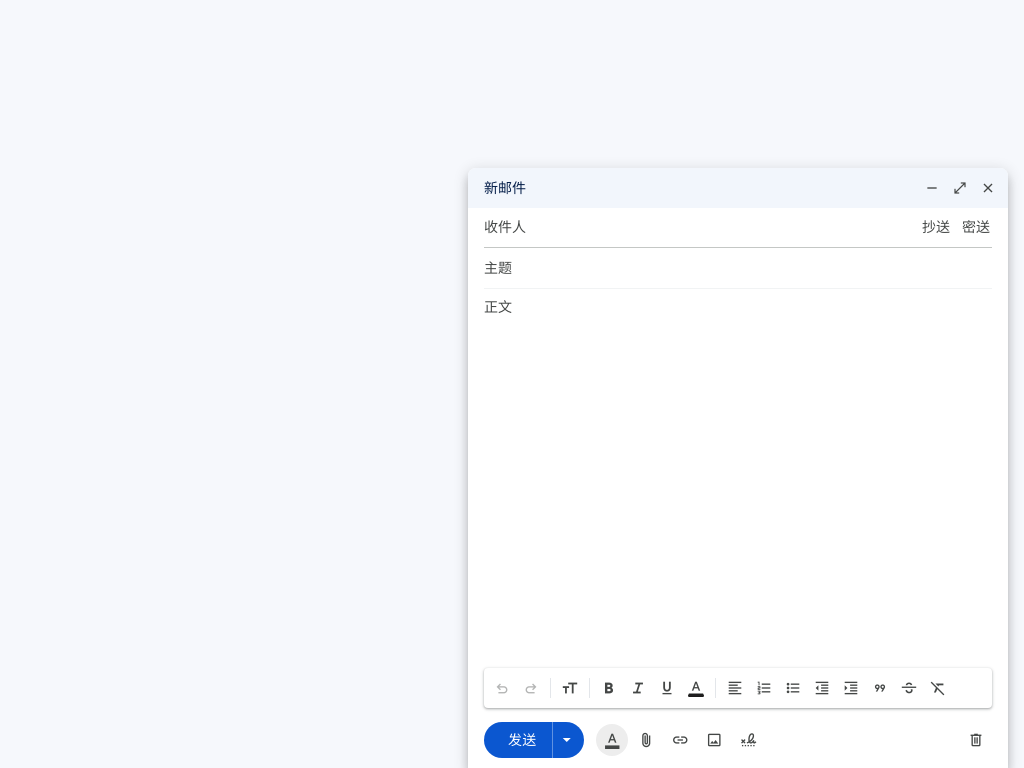
ComposeWindow — drafts › shows the conflict dialog on 409 and overwrites with force
In the field labelled "主题": x=738, y=268 [484,248,992,288], type "a"
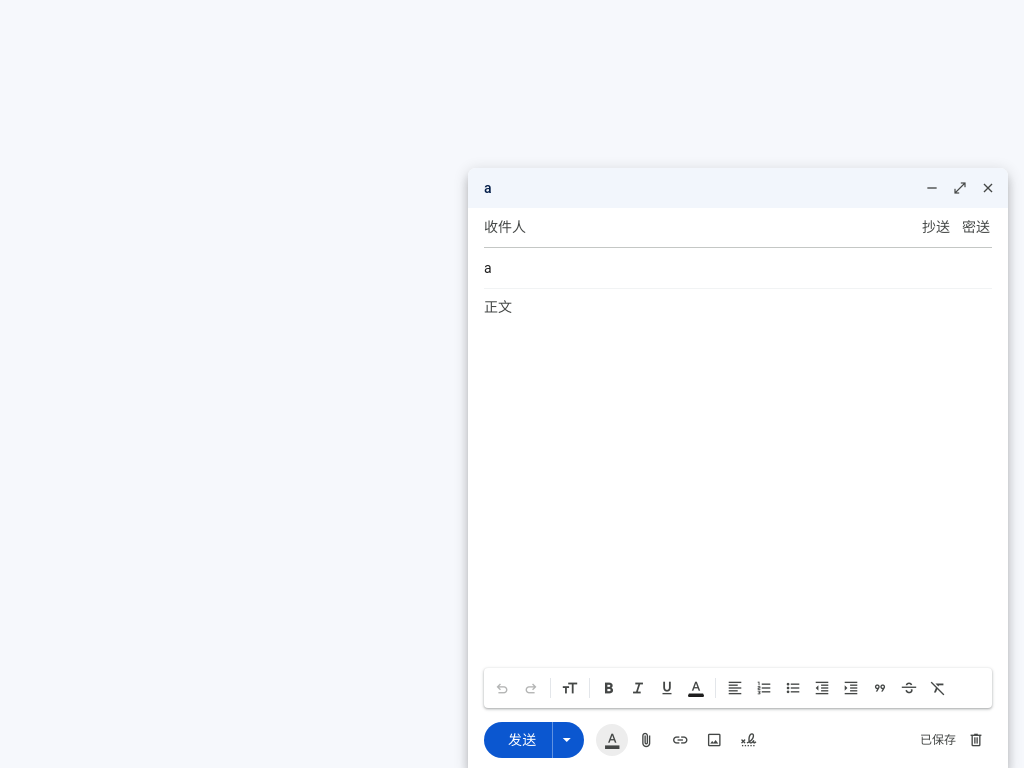
Now the text "已保存" is shown, box [920,733,956,747]
Replace the text in the field named "主题" with "ab": x=738, y=268 [484,248,992,288]
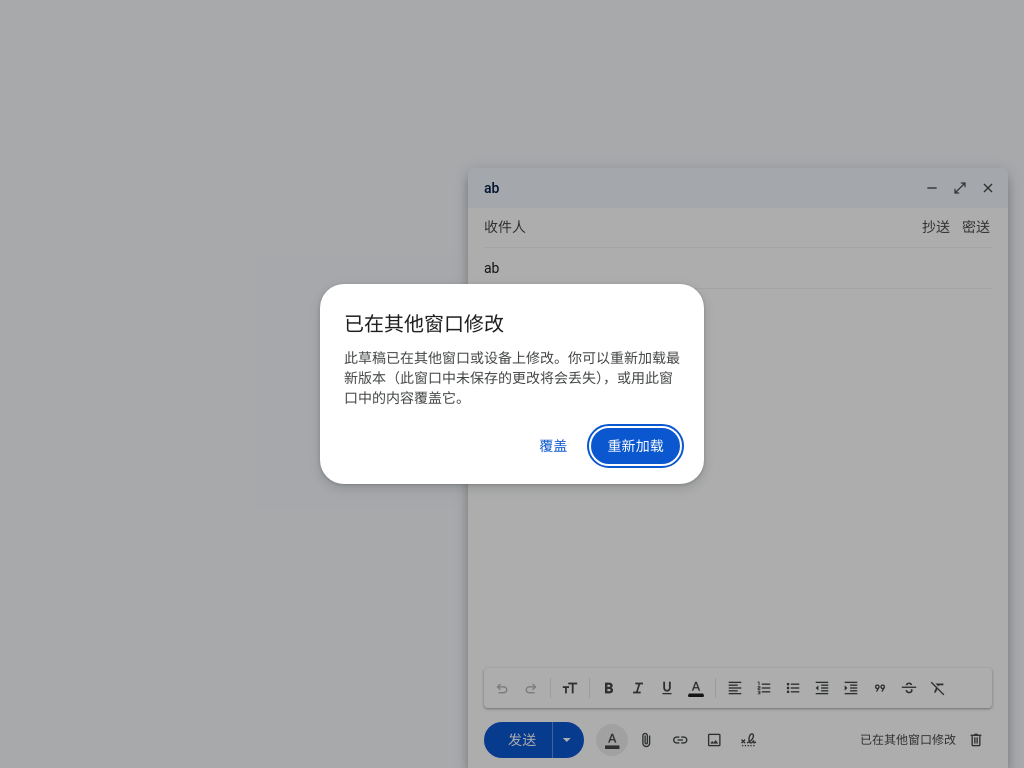
Click the button "覆盖": x=553, y=446 [523,428,584,464]
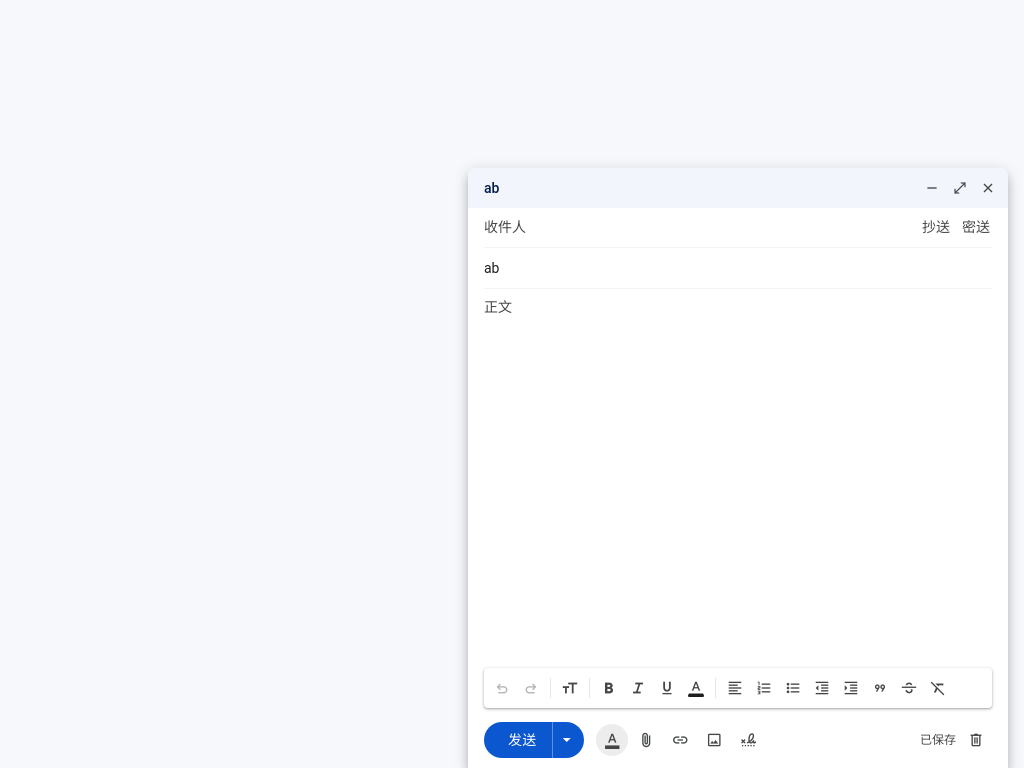
Now the text "已在其他窗口修改" is gone
